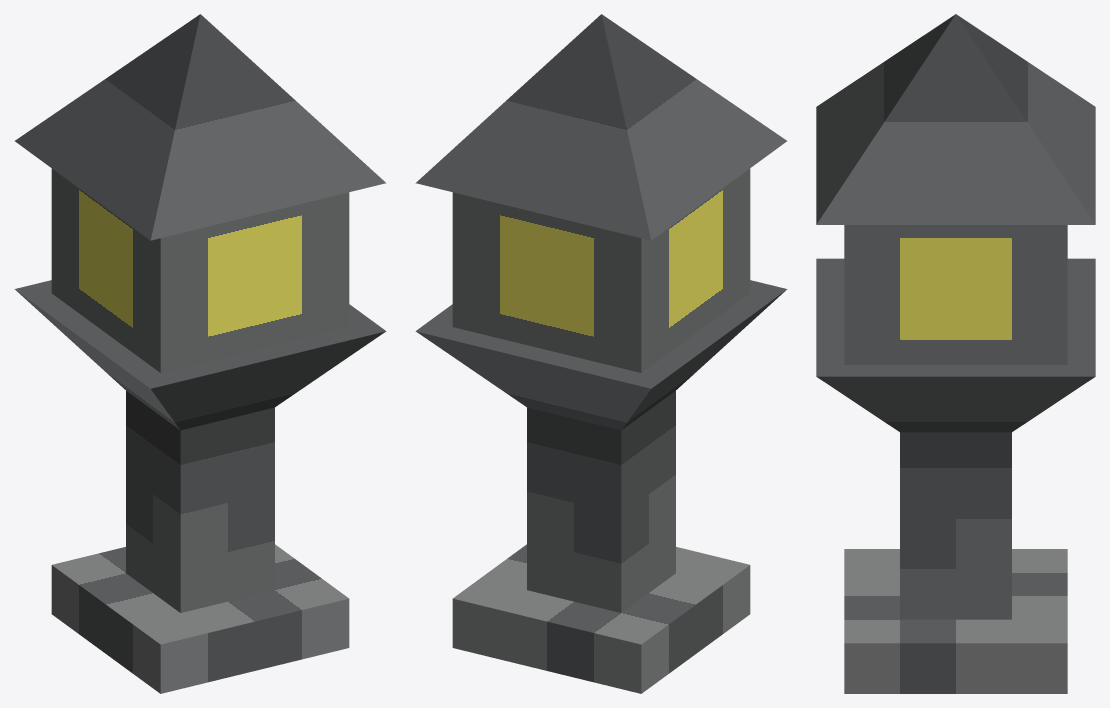
File: Stone Lantern.fbx
3 views of the same model, side by side, from view 1: azimuth 30°, elevation 25°; view 2: azimuth 150°, elevation 25°; view 3: azimuth 270°, elevation 25° (orthographic). The views are drawn at different scales.
Visible parts, largest first — view 1: pyramid_2, cube_2, cube_1, cube, pyramid, pyramid_1; view 2: pyramid_2, cube_2, cube_1, cube, pyramid, pyramid_1; view 3: pyramid_2, cube_2, cube, cube_1, pyramid, pyramid_1.
Part boxes in pixels (<box>): pyramid_2: <box>15,14,386,240</box>; cube_2: <box>51,168,349,372</box>; cube_1: <box>126,391,274,612</box>; cube: <box>51,544,349,693</box>; pyramid: <box>14,280,386,430</box>; pyramid_1: <box>16,280,384,388</box>; pyramid_2: <box>415,14,786,240</box>; cube_2: <box>452,168,750,372</box>; cube_1: <box>527,391,675,612</box>; cube: <box>452,544,750,693</box>; pyramid: <box>415,280,787,430</box>; pyramid_1: <box>416,280,786,387</box>; pyramid_2: <box>816,14,1095,224</box>; cube_2: <box>844,225,1067,364</box>; cube: <box>844,549,1067,693</box>; cube_1: <box>900,432,1011,619</box>; pyramid: <box>816,258,1095,432</box>; pyramid_1: <box>816,258,1095,376</box>.
Size of the model in its own units: 31.25 by 78.12 by 31.25.
1 material, 1 textured.
